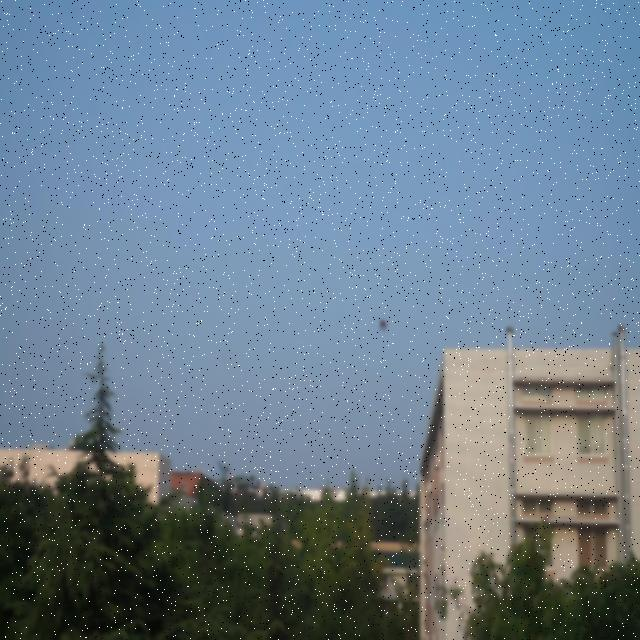UAV: (377, 316, 389, 332)
